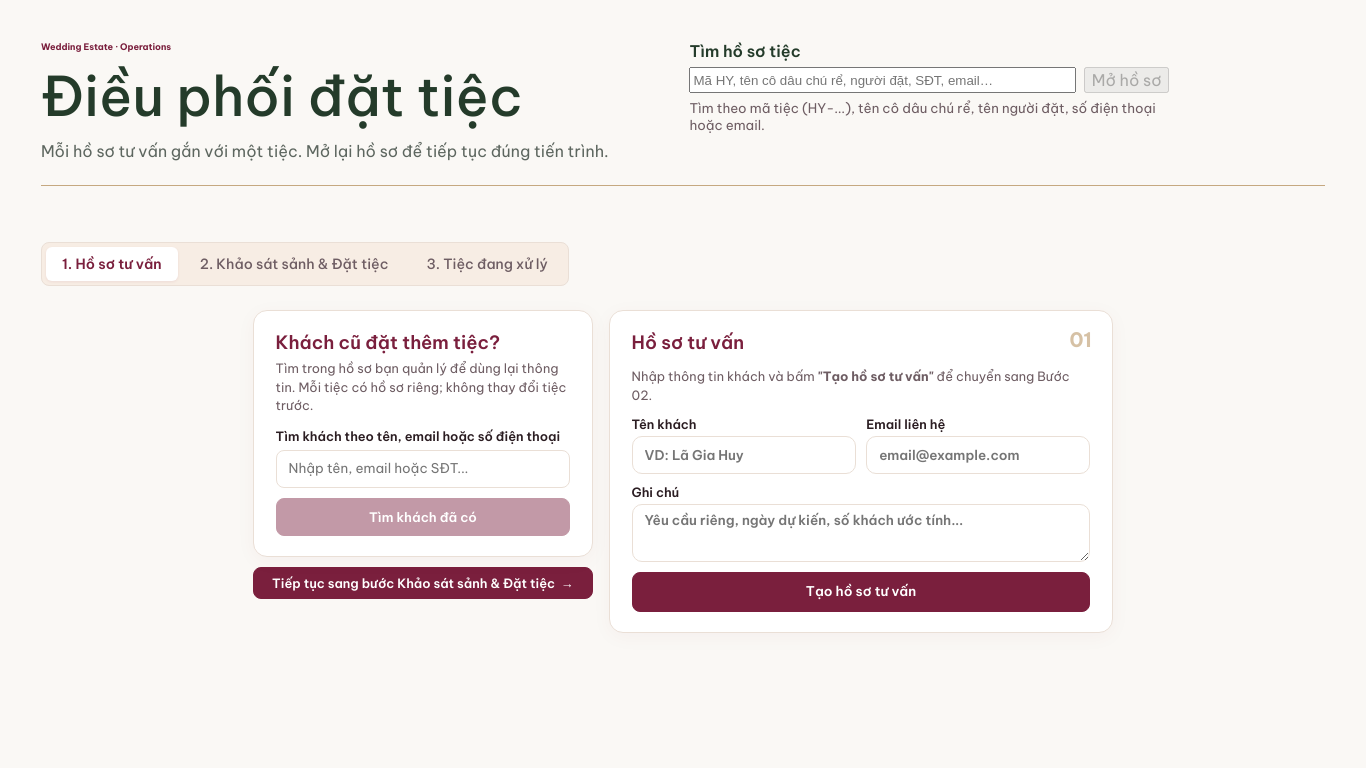
Scenario: ManagementBookingWorkspace cancellation decisions and calculations › loads server-owned proposal values instead of calculating money in the client
The image size is (1366, 768).
In the search field labelled "Tìm hồ sơ tiệc": (883,80) [689,67,1076,93], type "00000000-0000-4000-8000-000000000101"
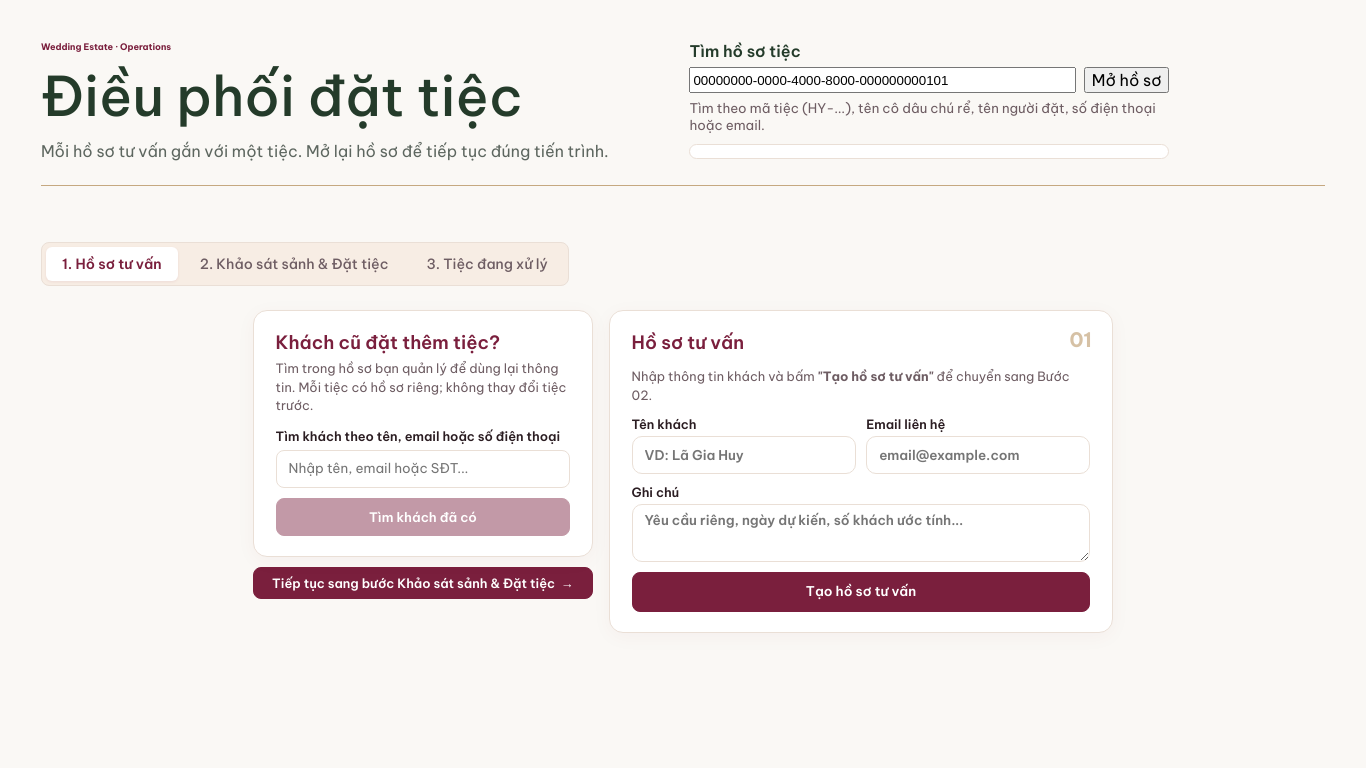
Click the button "Mở hồ sơ": (1127,80) [1084,67,1169,93]
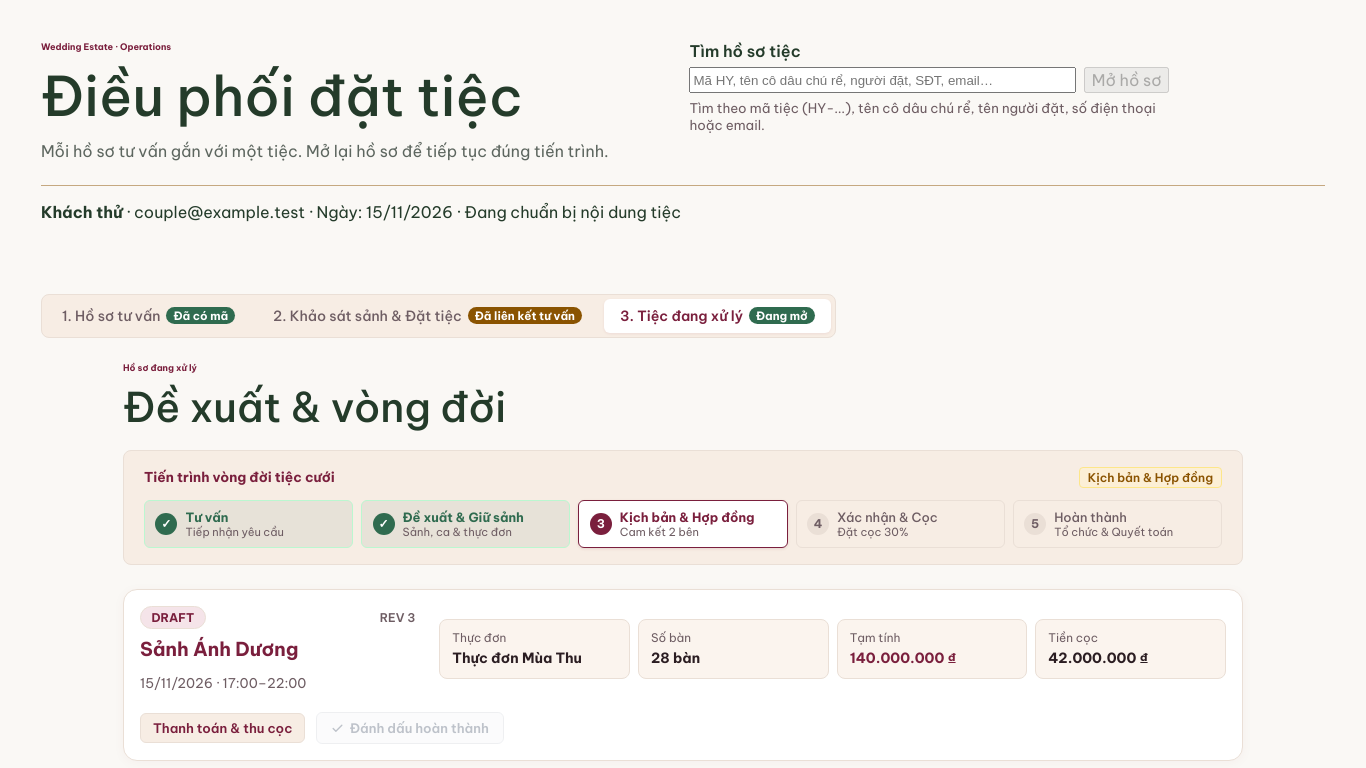
Check: the heading "Sảnh Ánh Dương" is shown, box [140,637,298,661]
Check: the text "42.000.000 ₫" is shown, box [1048,649,1148,667]
